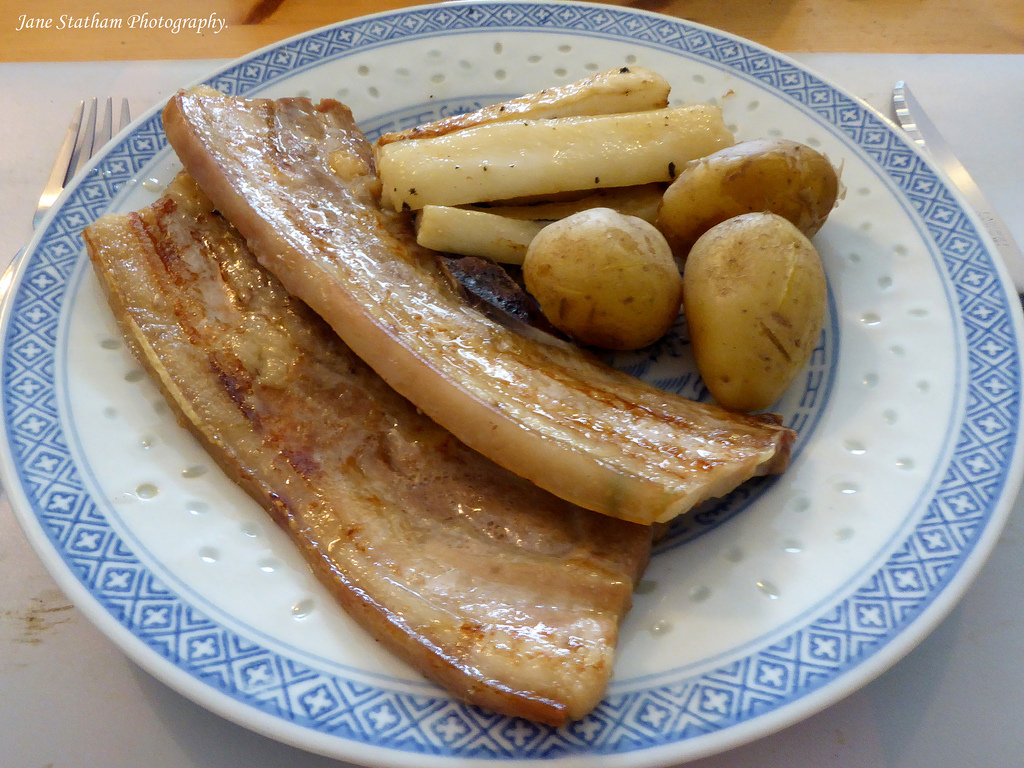boiled potatoes: (688, 212, 824, 417), (646, 128, 858, 228), (530, 218, 687, 353)
